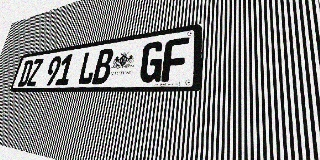1: (55, 54, 75, 85)
9: (44, 55, 63, 86)
B: (92, 48, 115, 84)
D: (17, 60, 34, 86)
F: (161, 37, 189, 82)
G: (138, 40, 165, 83)
L: (77, 50, 98, 85)
Z: (26, 58, 44, 86)
